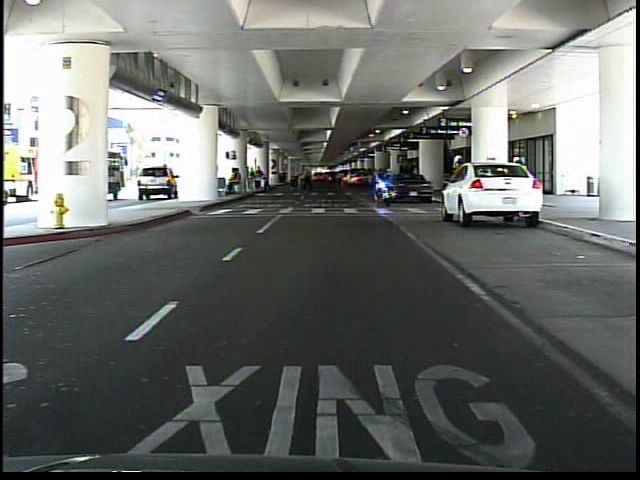person: (449, 151, 468, 220)
